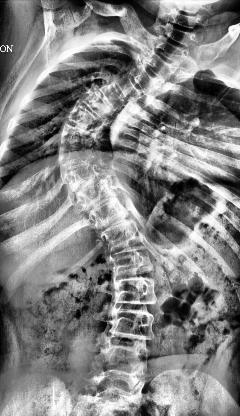Vertebrae: (109, 308, 157, 340), (104, 246, 152, 276), (110, 276, 158, 306), (98, 222, 142, 250), (103, 345, 146, 373), (88, 201, 132, 227), (76, 182, 117, 208), (108, 75, 148, 99), (94, 84, 134, 108), (78, 92, 118, 116), (59, 126, 99, 150), (57, 146, 100, 168), (125, 68, 164, 92), (67, 107, 107, 129), (166, 24, 200, 48), (62, 166, 102, 186), (171, 8, 205, 30), (156, 41, 192, 61), (142, 57, 179, 75)
